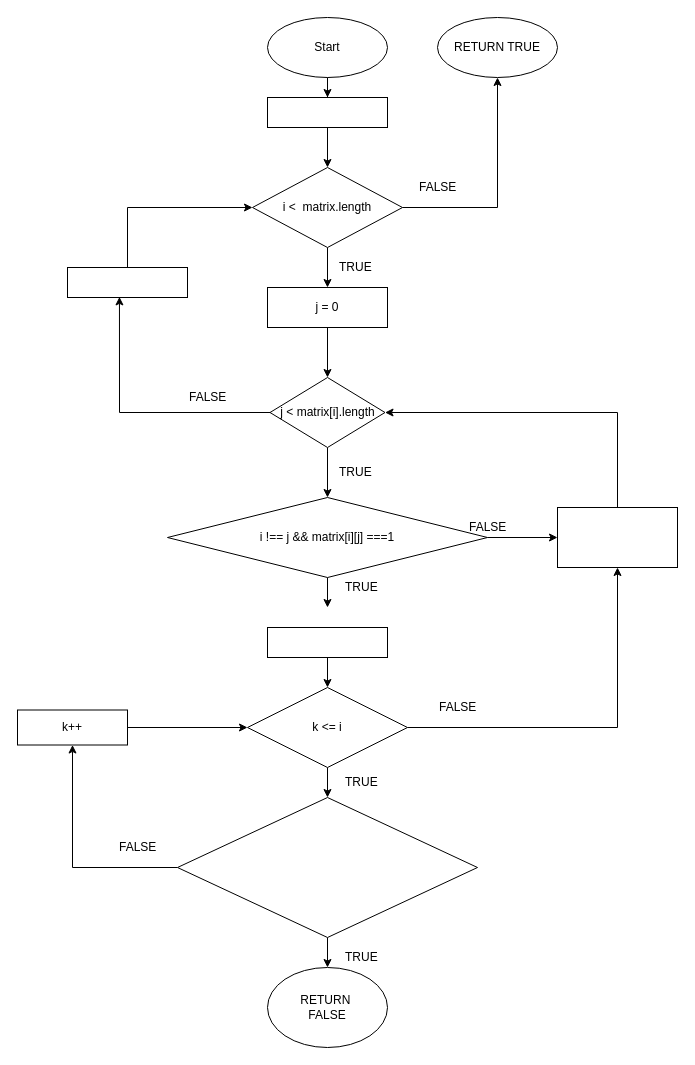
This 695x1065 diagram has some shape labels left out. The box of each missing label's shape, as (x1, y1, x2, y2) in pixels:
i = 0: (266, 96, 388, 128)
i++: (66, 266, 188, 298)
j !== k && matrix[j][k] === 1 && matrix[i][k] !== 1: (176, 796, 478, 938)
j++: (556, 506, 678, 568)
k = 0: (266, 626, 388, 658)
